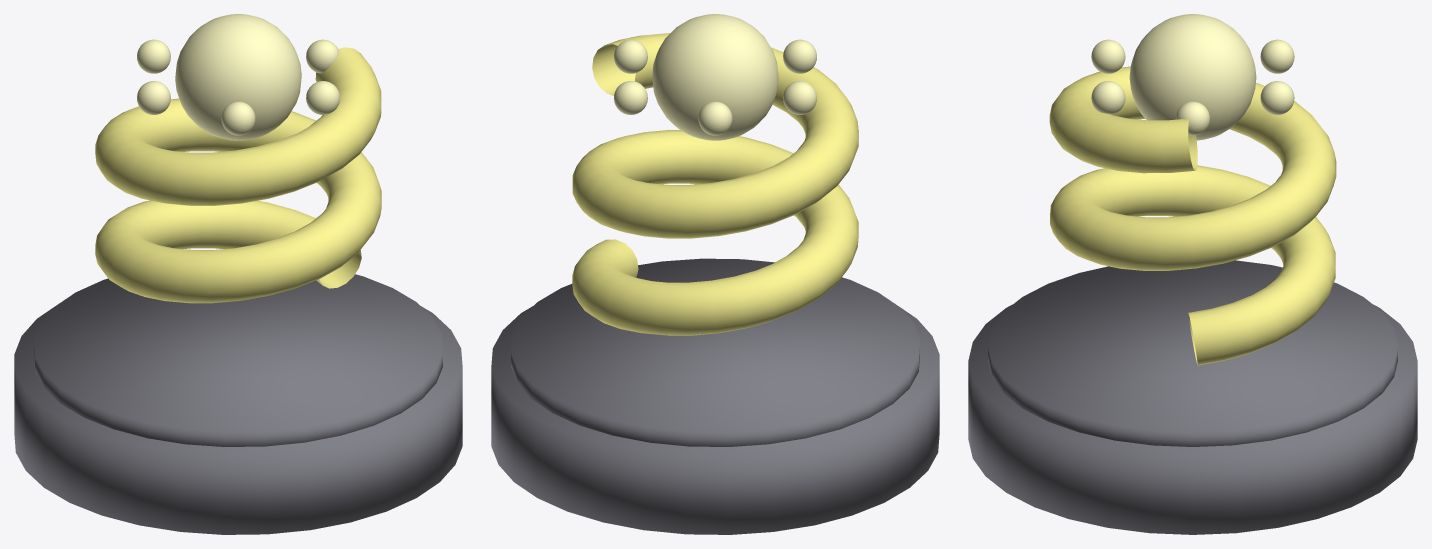
Rendered from Chain.glb.
3 renders of one model, left to right at view 1: azimuth 30°, elevation 25°; view 2: azimuth 150°, elevation 25°; view 3: azimuth 270°, elevation 25°, orthographic.
Visible parts, largest first — view 1: Chain_rim, Chain_coil, Chain_pedestal, Chain_core, Chain_spark4, Chain_spark2, Chain_spark3, Chain_spark5, Chain_spark0; view 2: Chain_rim, Chain_coil, Chain_pedestal, Chain_core, Chain_spark2, Chain_spark4, Chain_spark1, Chain_spark0, Chain_spark3; view 3: Chain_rim, Chain_coil, Chain_pedestal, Chain_core, Chain_spark2, Chain_spark4, Chain_spark1, Chain_spark5, Chain_spark0.
Boxes of the visible parts, x1,y1,x2,y2 form: Chain_rim: [34, 274, 442, 446]; Chain_coil: [95, 47, 381, 303]; Chain_pedestal: [14, 306, 462, 534]; Chain_core: [175, 14, 301, 140]; Chain_spark4: [221, 101, 255, 135]; Chain_spark2: [137, 39, 170, 73]; Chain_spark3: [137, 81, 170, 114]; Chain_spark5: [306, 81, 339, 114]; Chain_spark0: [306, 39, 338, 73]; Chain_rim: [511, 258, 919, 446]; Chain_coil: [572, 33, 858, 335]; Chain_pedestal: [491, 306, 939, 534]; Chain_core: [652, 14, 778, 140]; Chain_spark2: [698, 101, 732, 135]; Chain_spark4: [783, 39, 816, 73]; Chain_spark1: [614, 81, 647, 114]; Chain_spark0: [614, 39, 647, 73]; Chain_spark3: [783, 81, 816, 114]; Chain_rim: [988, 260, 1397, 446]; Chain_coil: [1049, 66, 1336, 365]; Chain_pedestal: [968, 304, 1417, 534]; Chain_core: [1129, 14, 1256, 140]; Chain_spark2: [1260, 39, 1294, 73]; Chain_spark4: [1091, 39, 1125, 73]; Chain_spark1: [1260, 81, 1294, 114]; Chain_spark5: [1091, 81, 1125, 114]; Chain_spark0: [1176, 101, 1209, 135].
Size of the model in its own units: 0.92 by 0.95 by 0.92.
